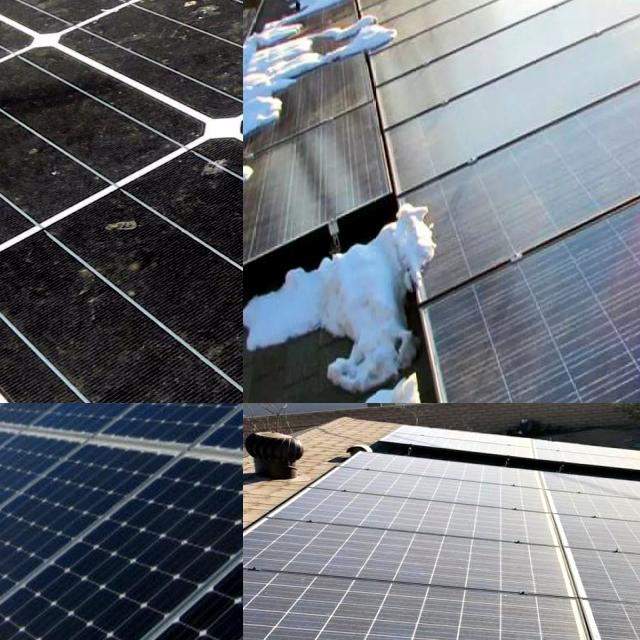bird: (131, 0, 236, 46)
dust: (384, 597, 557, 640), (243, 581, 332, 640)
panel: (266, 22, 392, 75), (0, 451, 40, 599), (402, 180, 442, 300), (0, 523, 42, 621), (0, 470, 36, 568), (243, 73, 303, 130), (350, 0, 416, 44), (243, 136, 285, 194), (290, 0, 337, 46), (243, 220, 277, 267), (0, 403, 49, 433), (0, 412, 23, 474), (0, 403, 24, 440), (0, 403, 26, 421), (0, 403, 24, 421), (0, 403, 24, 417)
